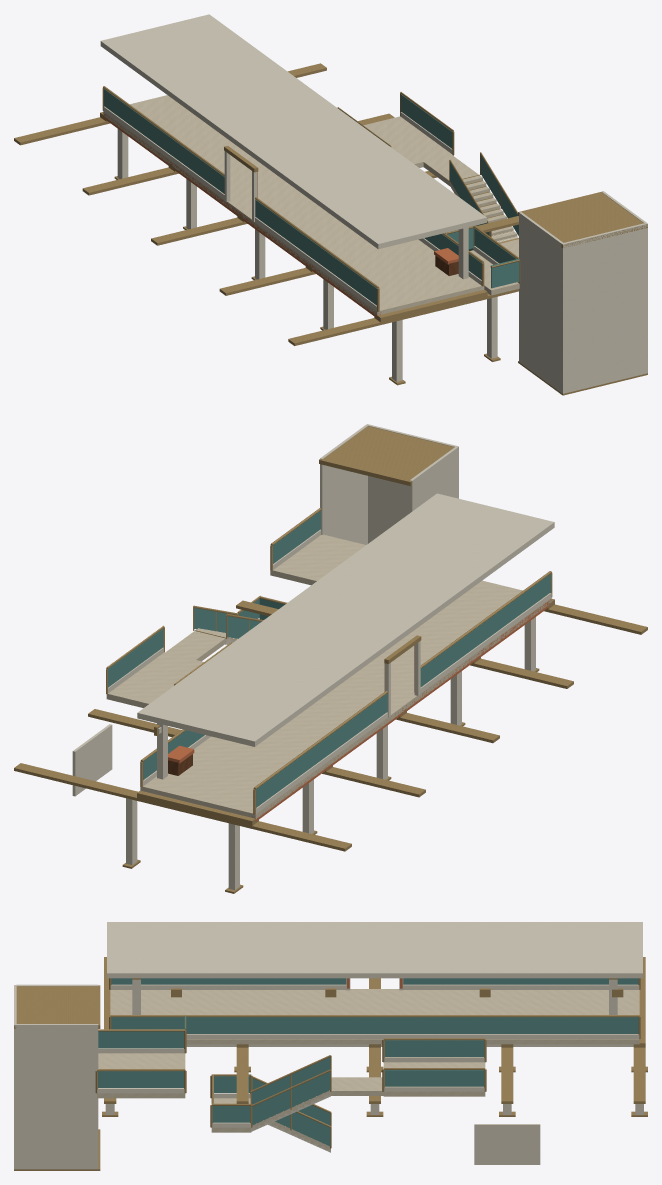
The model's file is AST-TRM-G4-012_aft_midship_source.glb.
3 views of the same model, one above another, from view 1: azimuth 30°, elevation 25°; view 2: azimuth 150°, elevation 25°; view 3: azimuth 270°, elevation 25° (orthographic). The views are drawn at different scales.
Visible parts, largest first — view 1: Aftmid_V2__Canopy_Profiled_Crown, Aftmid_V2__Boarding_Island_24m, Aftmid_V2__BoardingLift_Rear, Aftmid_V2__BoardingLift_HousingSide_-3.5, Aftmid_V2__BoardingLift_Header, Aftmid_V2__Tram_NorthGuard_infill, Aftmid_V2__Tram_SouthGuard_infill, Aftmid_V2__Emergency_TopApproach, Aftmid_V2__Platform_InnerFascia, Aftmid_V2_Foremid_Beam_0, Aftmid_V2_Foremid_Beam_1, Aftmid_V2_Foremid_Beam_4 (+15 smaller); view 2: Aftmid_V2__Canopy_Profiled_Crown, Aftmid_V2__Boarding_Island_24m, Aftmid_V2__BoardingLift_Header, Aftmid_V2__BoardingLift_HousingSide_-7.7, Aftmid_V2_Foremid_Beam_4, Aftmid_V2__Tram_SouthGuard_infill, Aftmid_V2__Emergency_TopApproach, Aftmid_V2__Tram_NorthGuard_infill, Aftmid_V2__BoardingLift_UpperLanding, Aftmid_V2__BoardingLift_Rear, Aftmid_V2__BoardingLift_HousingSide_-3.5, Aftmid_V2_Foremid_GuestWaitingScreen (+14 smaller); view 3: Aftmid_V2__Canopy_Profiled_Crown, Aftmid_V2__Boarding_Island_24m, Aftmid_V2__BoardingLift_HousingSide_-7.7, Aftmid_V2__Port_Edge_infill, Aftmid_V2__BoardingLift_Header, Aftmid_V2_Foremid_GuestWaitingScreen, Aftmid_V2__Port_Edge_foot, Aftmid_V2__BoardingLift_UpperLanding, Aftmid_V2__Upper_Approach_Inner_infill, Aftmid_V2__Upper_Approach_Outer_infill, Aftmid_V2__Tram_NorthGuard_infill, Aftmid_V2__Tram_SouthGuard_infill (+24 smaller).
Boxes of the visible parts, x1,y1,x2,y2 form: Aftmid_V2__Canopy_Profiled_Crown: [100, 14, 486, 249]; Aftmid_V2__Boarding_Island_24m: [103, 95, 484, 315]; Aftmid_V2__BoardingLift_Rear: [561, 222, 647, 393]; Aftmid_V2__BoardingLift_HousingSide_-3.5: [519, 212, 563, 392]; Aftmid_V2__BoardingLift_Header: [518, 191, 647, 247]; Aftmid_V2__Tram_NorthGuard_infill: [255, 200, 376, 305]; Aftmid_V2__Tram_SouthGuard_infill: [104, 89, 224, 193]; Aftmid_V2__Emergency_TopApproach: [363, 116, 453, 167]; Aftmid_V2__Platform_InnerFascia: [103, 113, 381, 318]; Aftmid_V2_Foremid_Beam_0: [288, 289, 518, 345]; Aftmid_V2_Foremid_Beam_1: [219, 216, 518, 295]; Aftmid_V2_Foremid_Beam_4: [14, 63, 326, 145]; Aftmid_V2__Canopy_Profiled_Crown: [137, 493, 554, 746]; Aftmid_V2__Boarding_Island_24m: [140, 580, 551, 819]; Aftmid_V2__BoardingLift_Header: [319, 426, 454, 486]; Aftmid_V2__BoardingLift_HousingSide_-7.7: [320, 425, 367, 544]; Aftmid_V2_Foremid_Beam_4: [14, 763, 351, 851]; Aftmid_V2__Tram_SouthGuard_infill: [256, 693, 387, 807]; Aftmid_V2__Emergency_TopApproach: [106, 652, 203, 707]; Aftmid_V2__Tram_NorthGuard_infill: [420, 574, 550, 686]; Aftmid_V2__BoardingLift_UpperLanding: [270, 534, 365, 585]; Aftmid_V2__BoardingLift_Rear: [366, 424, 458, 543]; Aftmid_V2__BoardingLift_HousingSide_-3.5: [409, 446, 457, 512]; Aftmid_V2_Foremid_GuestWaitingScreen: [72, 724, 112, 796]; Aftmid_V2__Canopy_Profiled_Crown: [107, 922, 642, 978]; Aftmid_V2__Boarding_Island_24m: [110, 989, 639, 1044]; Aftmid_V2__BoardingLift_HousingSide_-7.7: [16, 1024, 98, 1169]; Aftmid_V2__Port_Edge_infill: [111, 1017, 638, 1033]; Aftmid_V2__BoardingLift_Header: [14, 985, 100, 1028]; Aftmid_V2_Foremid_GuestWaitingScreen: [474, 1124, 540, 1164]; Aftmid_V2__Port_Edge_foot: [186, 1034, 639, 1038]; Aftmid_V2__BoardingLift_UpperLanding: [97, 1053, 185, 1098]; Aftmid_V2__Upper_Approach_Inner_infill: [385, 1070, 484, 1086]; Aftmid_V2__Upper_Approach_Outer_infill: [385, 1040, 484, 1056]; Aftmid_V2__Tram_NorthGuard_infill: [111, 978, 346, 984]; Aftmid_V2__Tram_SouthGuard_infill: [403, 978, 638, 984].
Bounding box in the file's own units: 15.55 × 7.3 × 28.74.
6 materials, 4 textured.
